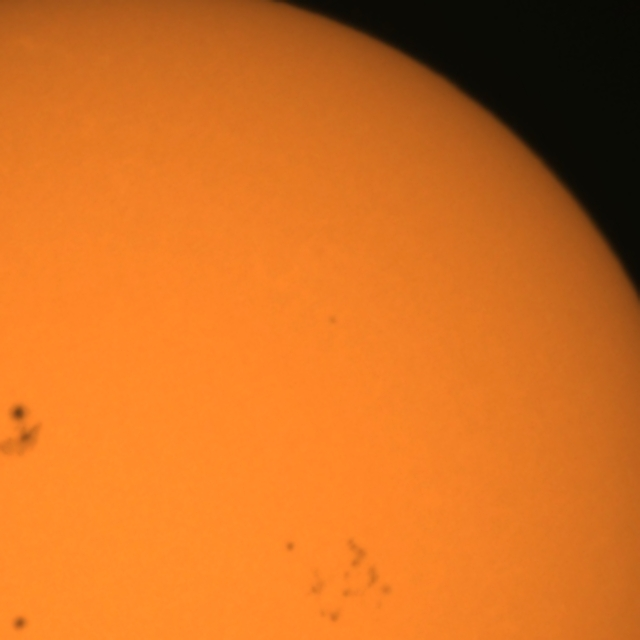sunspot: (334, 552, 398, 610), (0, 400, 47, 454), (340, 532, 384, 585), (8, 612, 31, 634), (282, 538, 299, 558), (325, 311, 341, 329)
